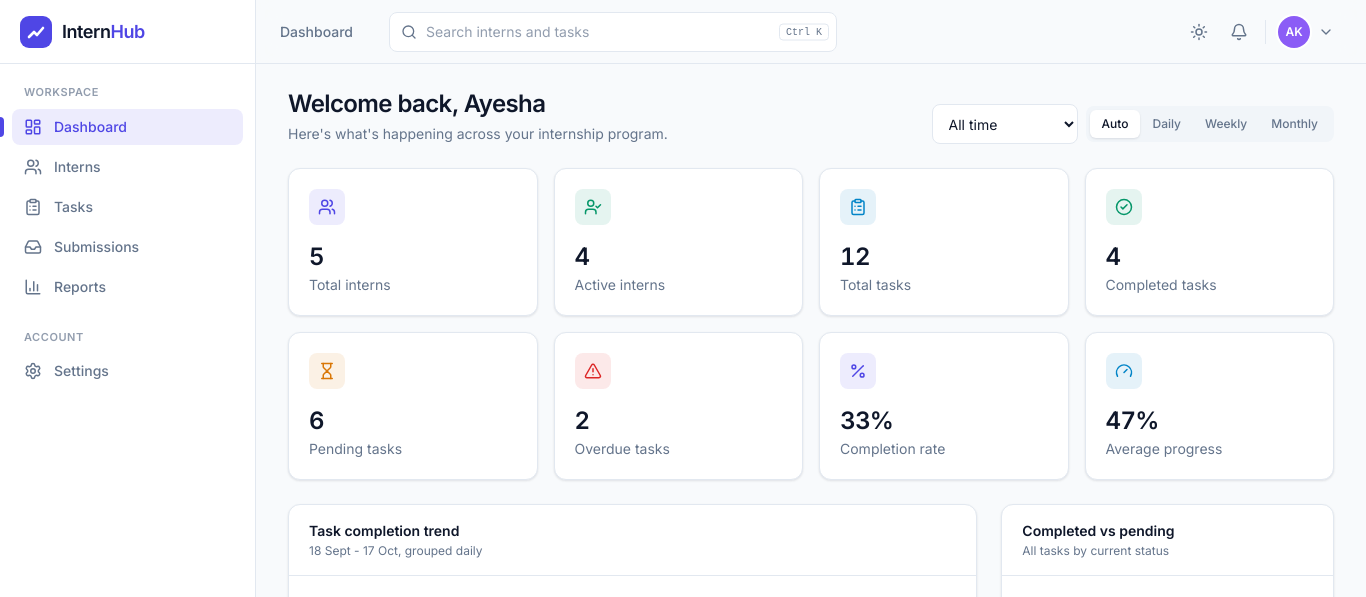
global search › shows an empty state and an error state
In the dropdown named "global search": (613, 32) 389,12 -> 837,52, type "zzz"
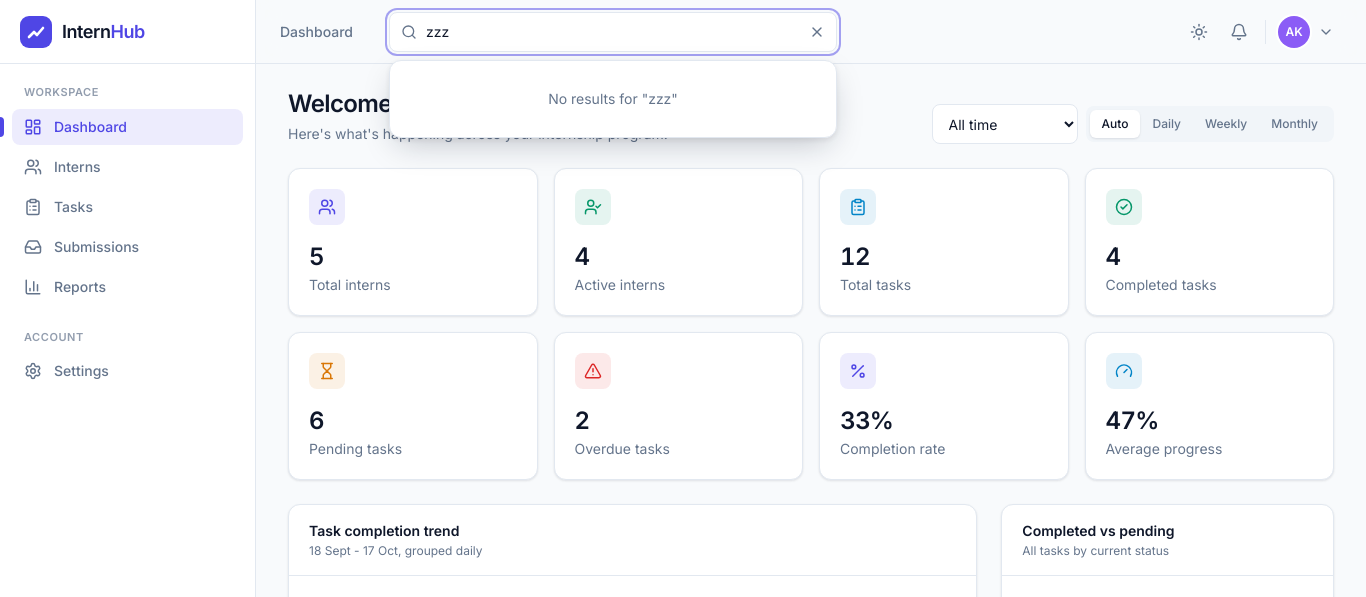
Check: the list item "No results for \"zzz\"" is shown, box 548,90 -> 678,106
In the dropdown named "global search": (613, 32) 389,12 -> 837,52, type "q"
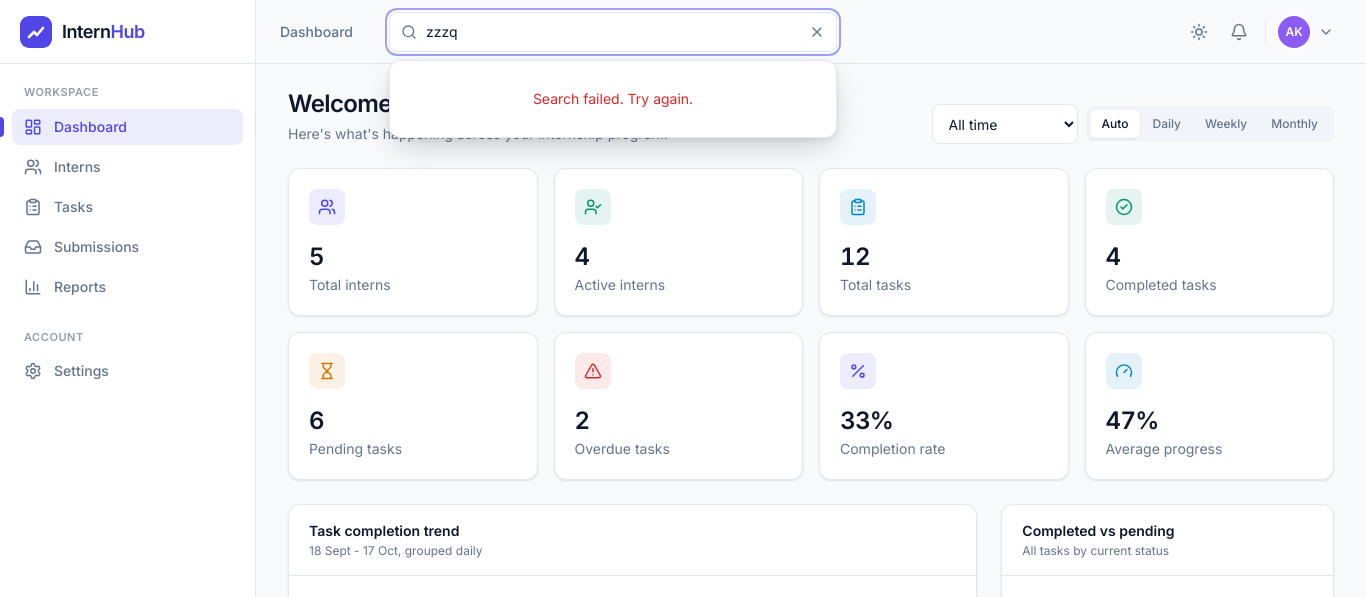
Check: the message shows "Search failed", box 533,90 -> 693,106
